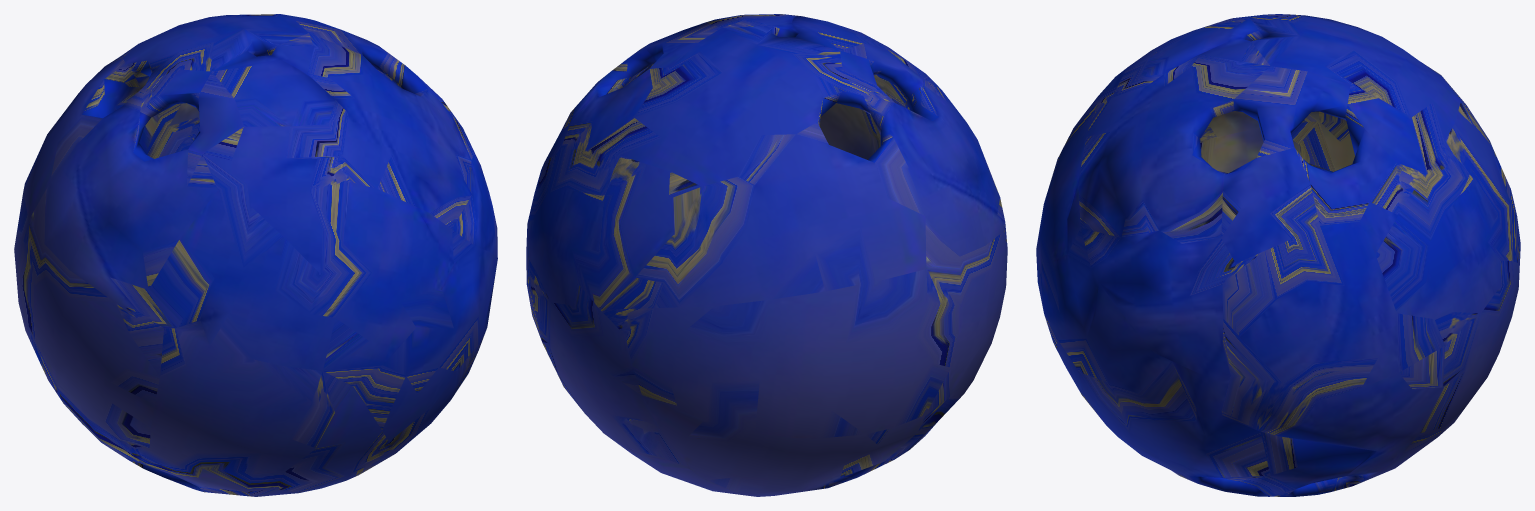
The model's file is ball_bowling.glb.
3 views of the same model, side by side, from view 1: azimuth 30°, elevation 25°; view 2: azimuth 150°, elevation 25°; view 3: azimuth 270°, elevation 25° (orthographic).
Visible parts, largest first — view 1: tripo_node_2e772acb-1b87-4cba-be2c-caafacffe865; view 2: tripo_node_2e772acb-1b87-4cba-be2c-caafacffe865; view 3: tripo_node_2e772acb-1b87-4cba-be2c-caafacffe865.
Part boxes in pixels (x1,y1,x2,y2): tripo_node_2e772acb-1b87-4cba-be2c-caafacffe865: [14, 14, 497, 496]; tripo_node_2e772acb-1b87-4cba-be2c-caafacffe865: [526, 14, 1007, 496]; tripo_node_2e772acb-1b87-4cba-be2c-caafacffe865: [1036, 14, 1520, 496].
Bounding box in the file's own units: 0.9921 × 0.9959 × 0.9977.
1 material, 1 textured.
